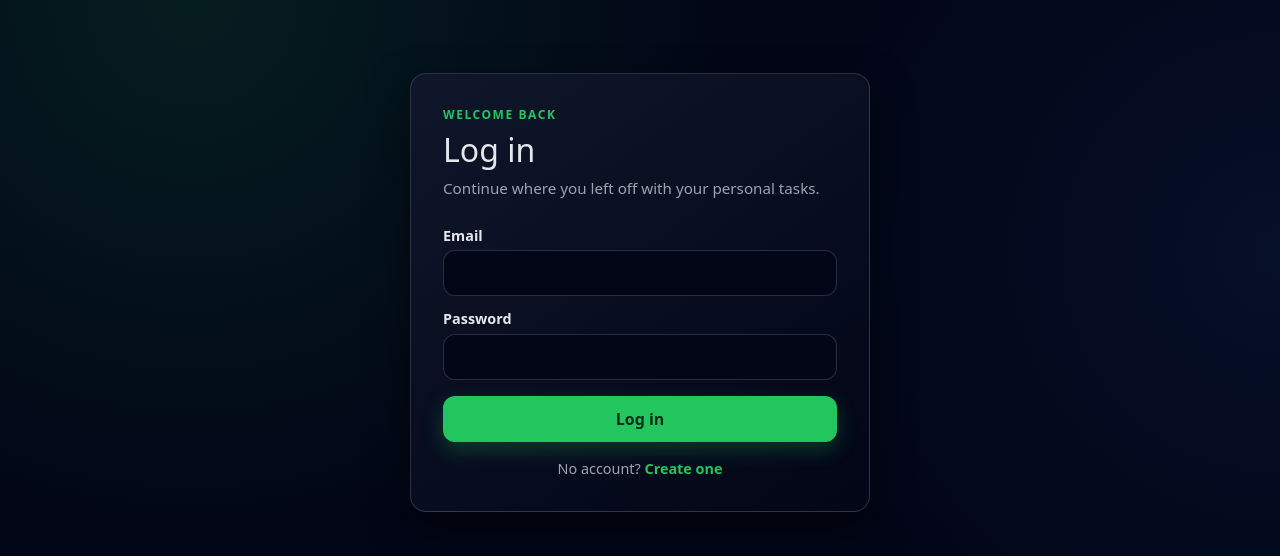
it: LoginPage › shows a login error and stays on the login page
Type "student@example.com" into the field labelled "Email" at (640, 273), box left=443, top=250, right=837, bottom=296
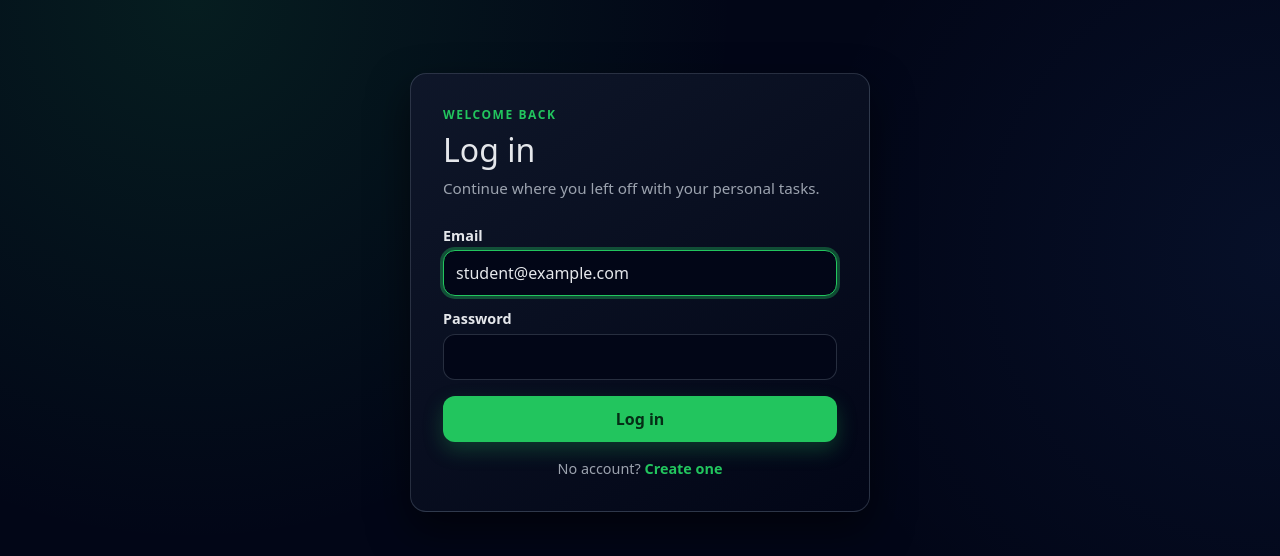
Type "classroom123" into the password field labelled "Password" at (640, 357), box left=443, top=334, right=837, bottom=380
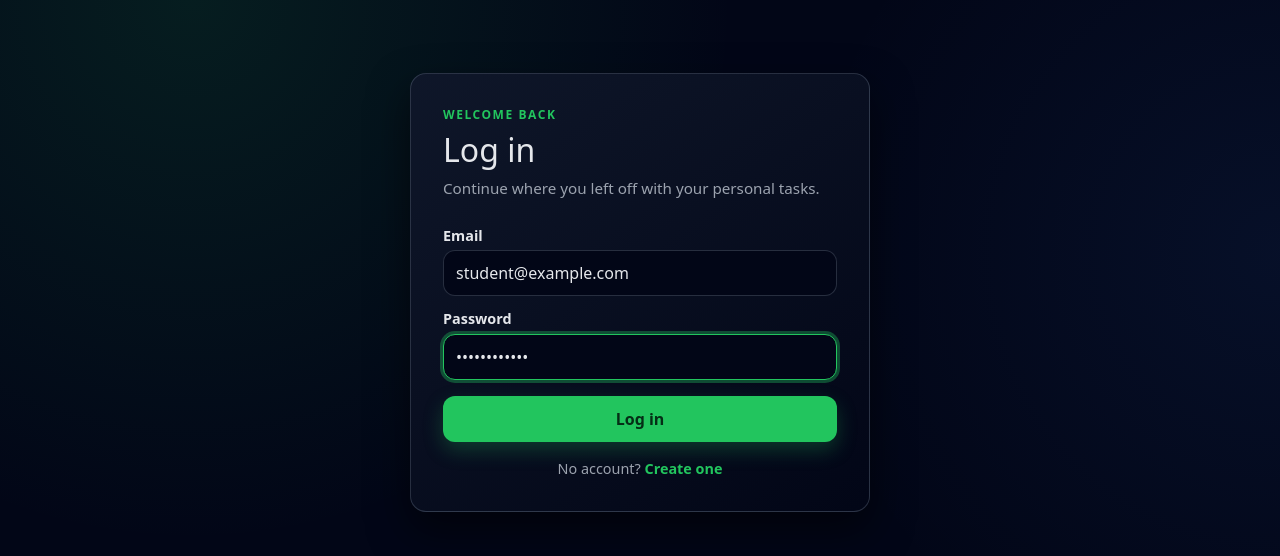
Click the button "Log in" at (640, 419), box left=443, top=396, right=837, bottom=442
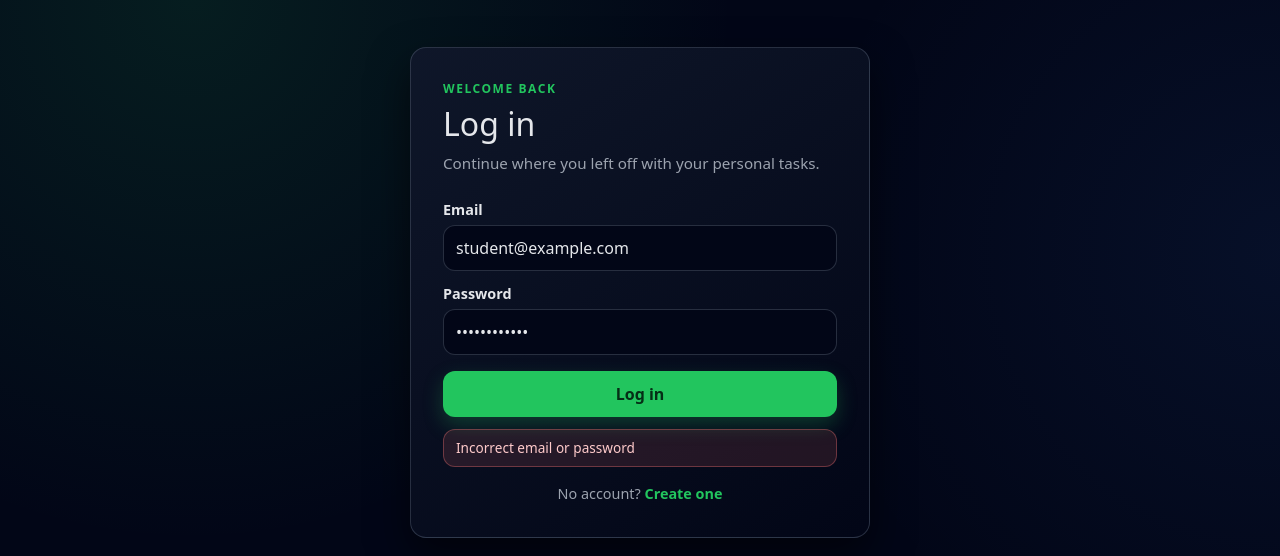
Check: the heading "Log in" is shown, box left=443, top=102, right=535, bottom=145
Check: the message reads "Incorrect email or password", box left=456, top=438, right=635, bottom=457
